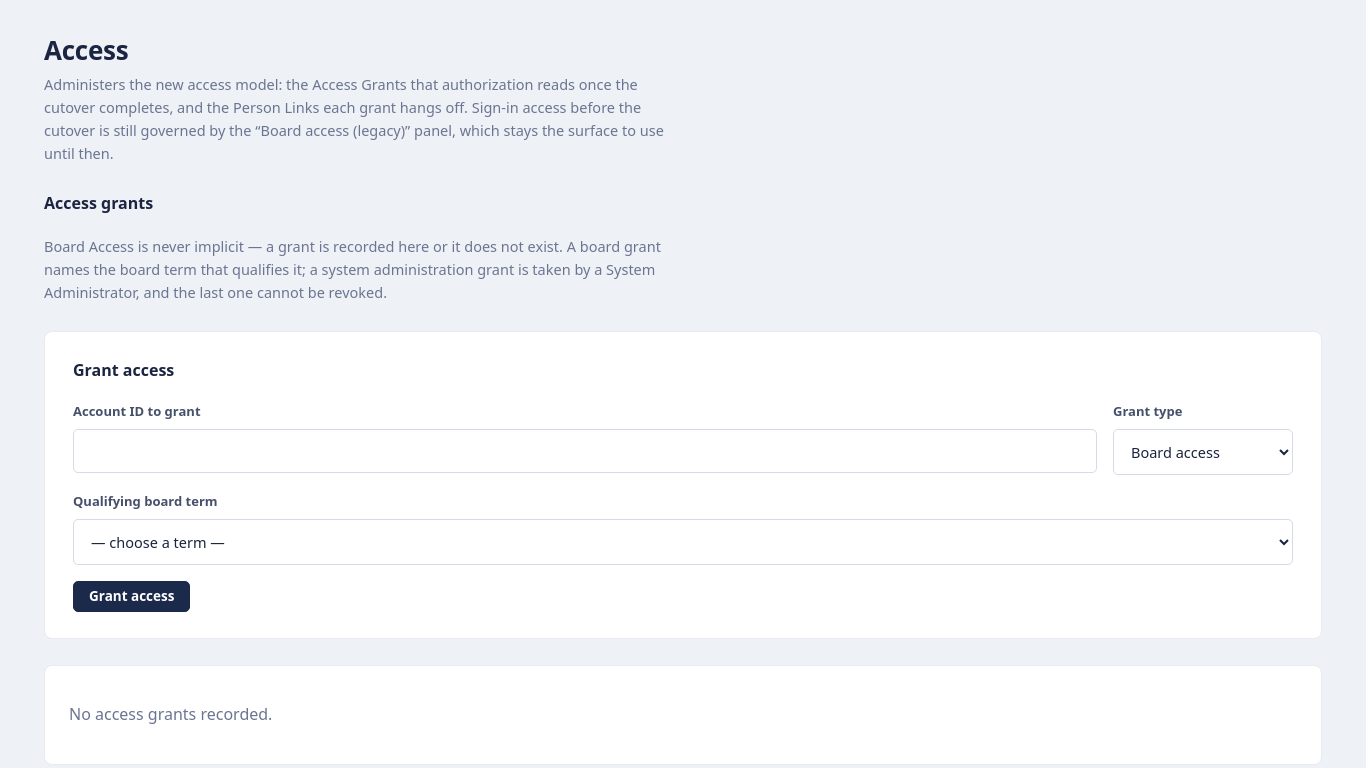
Test: AccessPanel › refuses a board grant with no qualifying term chosen
This screenshot has width=1366, height=768.
Check: the text "No access grants recorded." is shown, box [69,703,272,725]
Type "acct-9" into the field labelled "Account ID to grant".
click(585, 451); type("acct-9")  # box [73,429,1097,473]
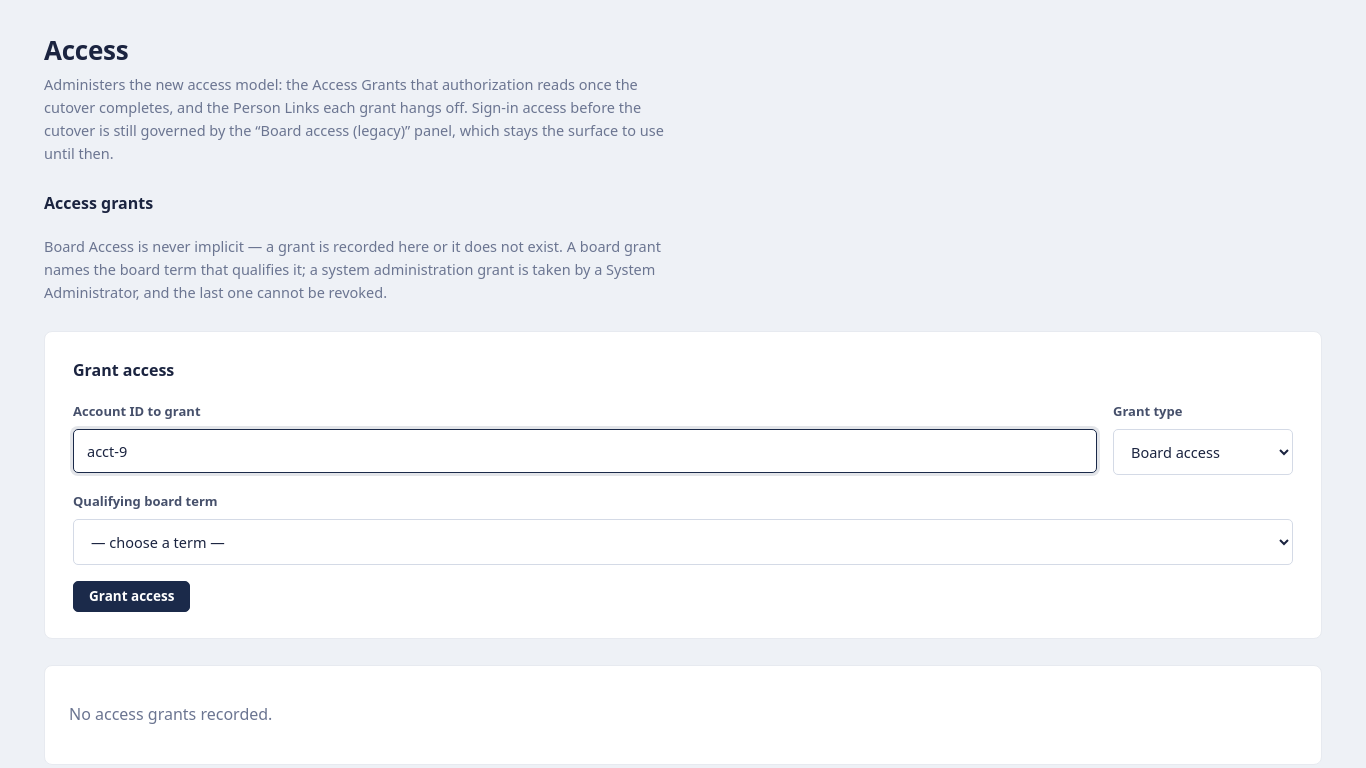
Click the button "Grant access".
click(132, 596)  # box [73,581,190,612]
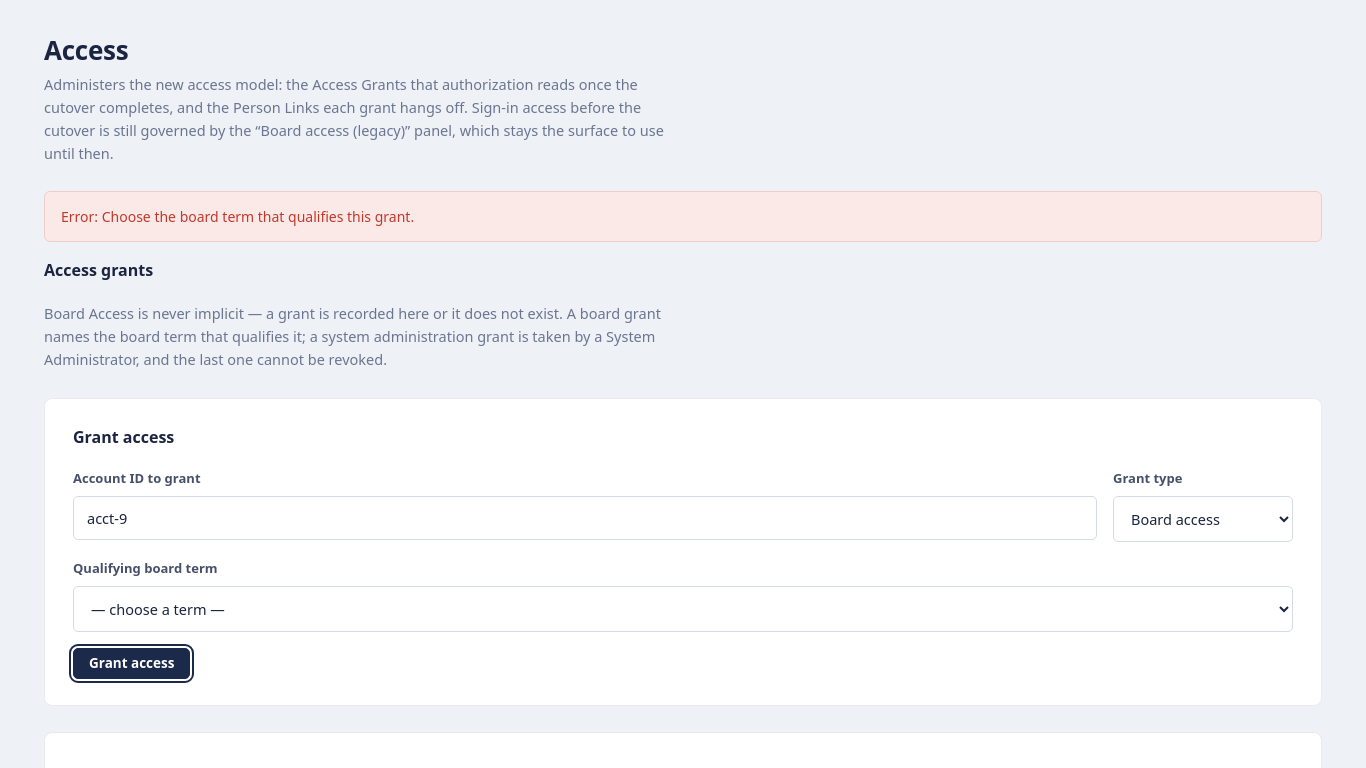
Check: the text "Error: Choose the board term that qualifies this grant." is shown, box [44,191,1322,242]
